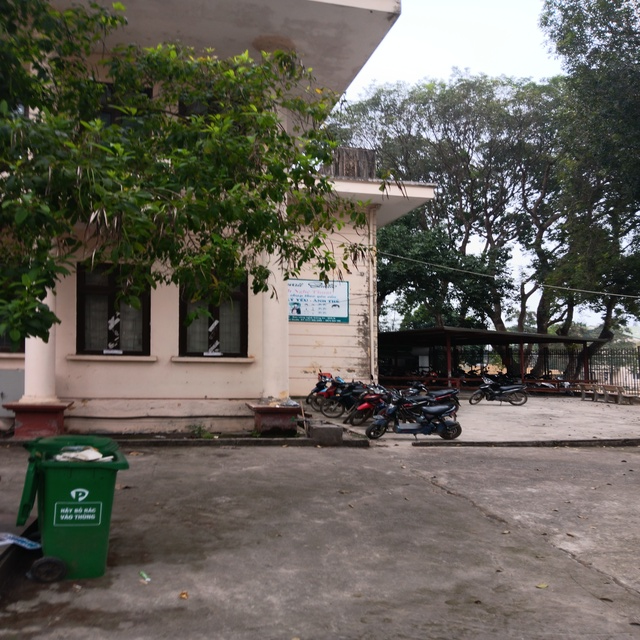thungrac: (33, 446, 119, 581)
